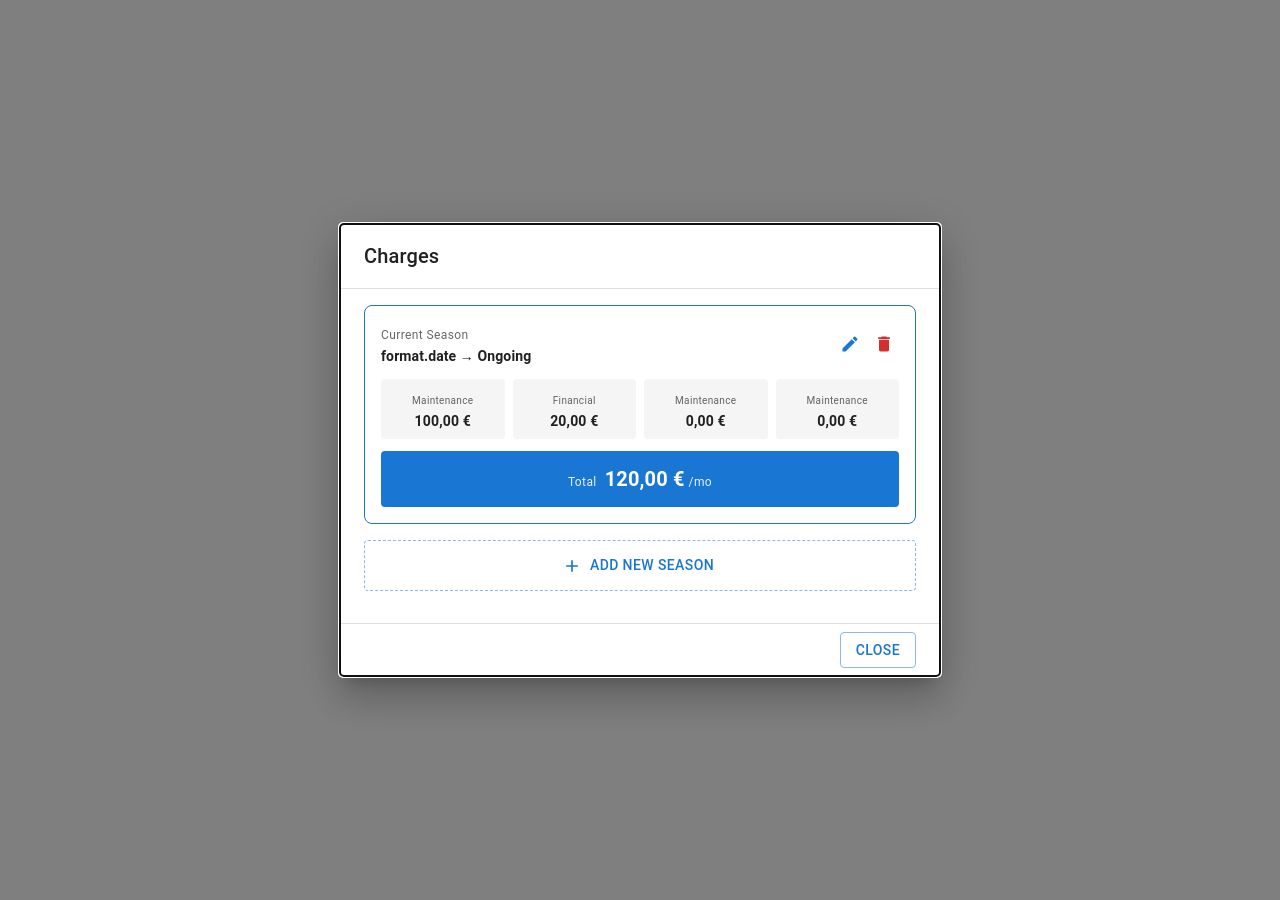
Test: PropertyChargeDialog › opens form when add new season clicked
Click the button "Add New Season": (640, 566) [364,540,916,591]
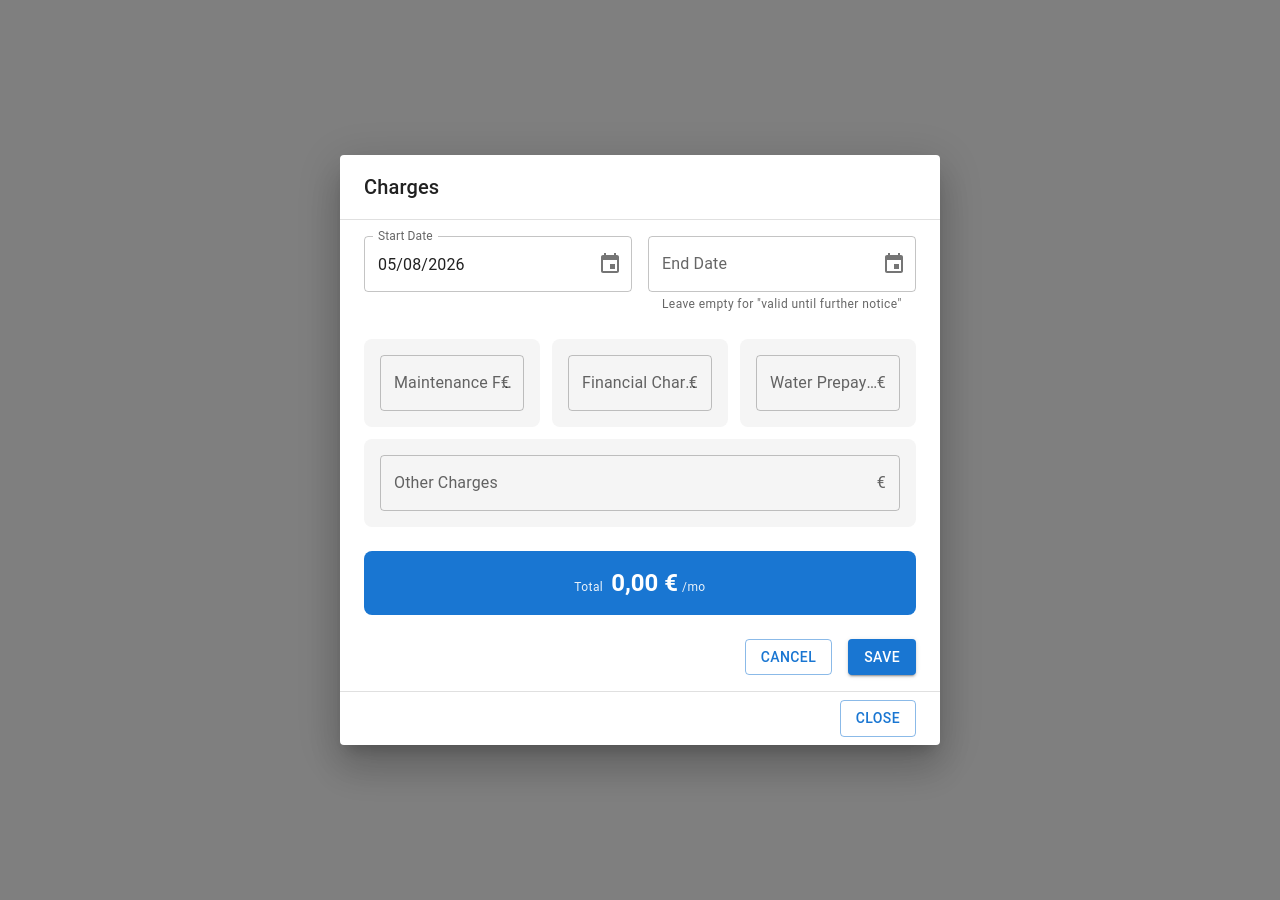
Expected: the text "Start Date" is shown, [378,227,433,244]
Expected: the text "End Date" is shown, [662,252,727,275]
Expected: the button "Save" is shown, [848,639,916,676]
